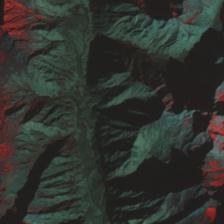landslides: (180, 64, 211, 98), (166, 66, 182, 115), (181, 71, 202, 108), (181, 79, 196, 108)
